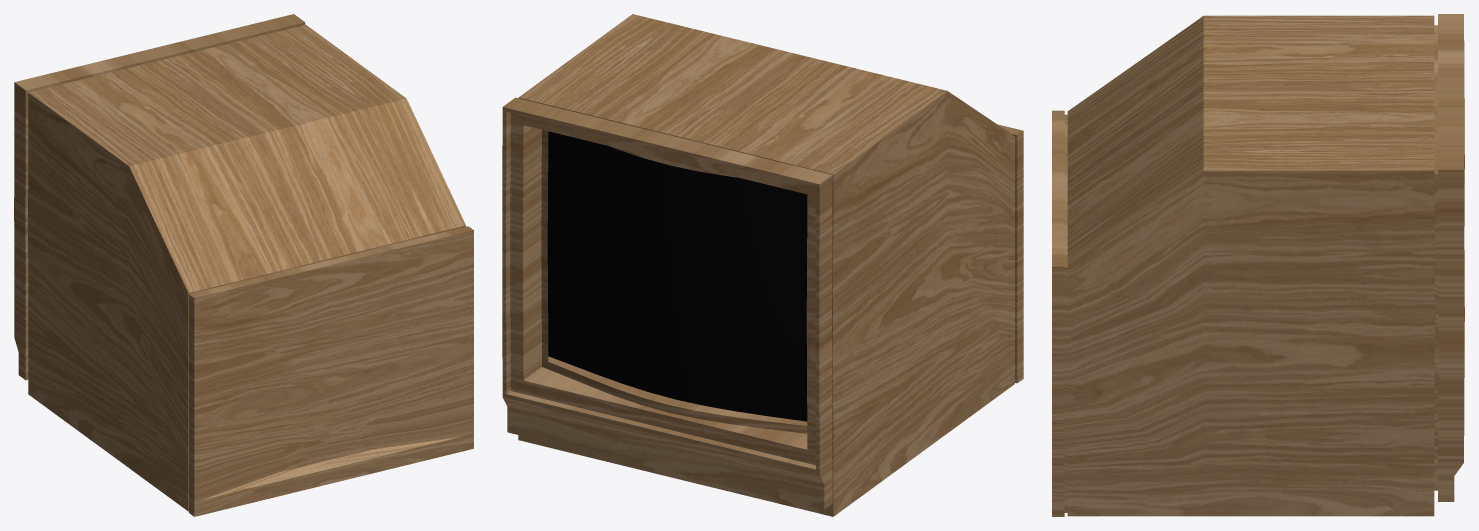
The model's file is wood_crt.glb.
3 renders of one model, left to right at view 1: azimuth 30°, elevation 25°; view 2: azimuth 150°, elevation 25°; view 3: azimuth 270°, elevation 25°, orthographic. The views are drawn at different scales.
Parts seen in each view (by area): view 1: Cube; view 2: Cube; view 3: Cube.
Part boxes in pixels (box(x1,y1,x2,y2)): Cube: box(14, 14, 473, 516); Cube: box(502, 14, 1023, 516); Cube: box(1052, 14, 1464, 516).
Bounding box in the file's own units: 0.579 × 0.6 × 0.647.
Materials: 2 (1 with a texture image).
